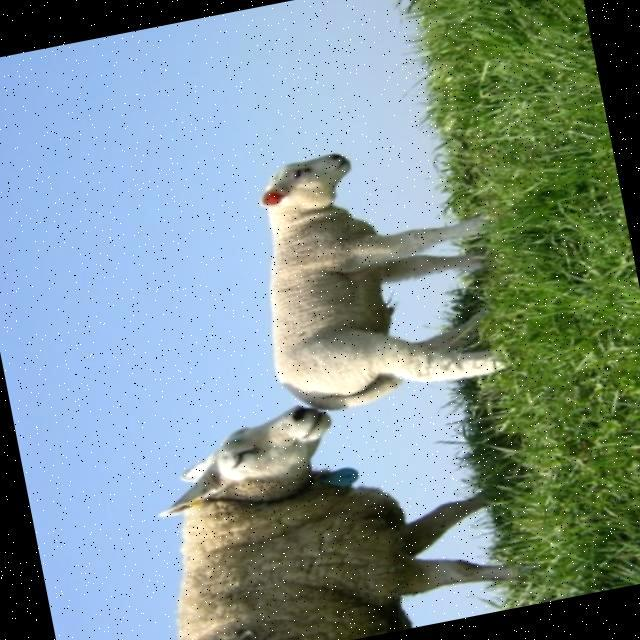sheep: (163, 408, 508, 640), (261, 154, 506, 412)
